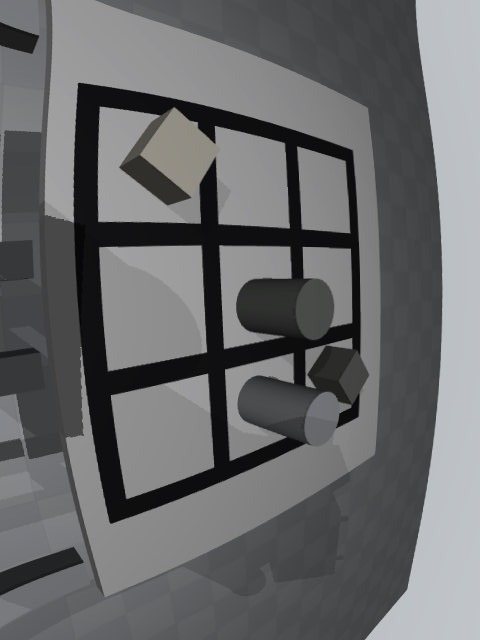can: (237, 376, 339, 447)
cube: (307, 345, 370, 405)
cylinder: (236, 278, 334, 340)
foam: (119, 107, 220, 206)
